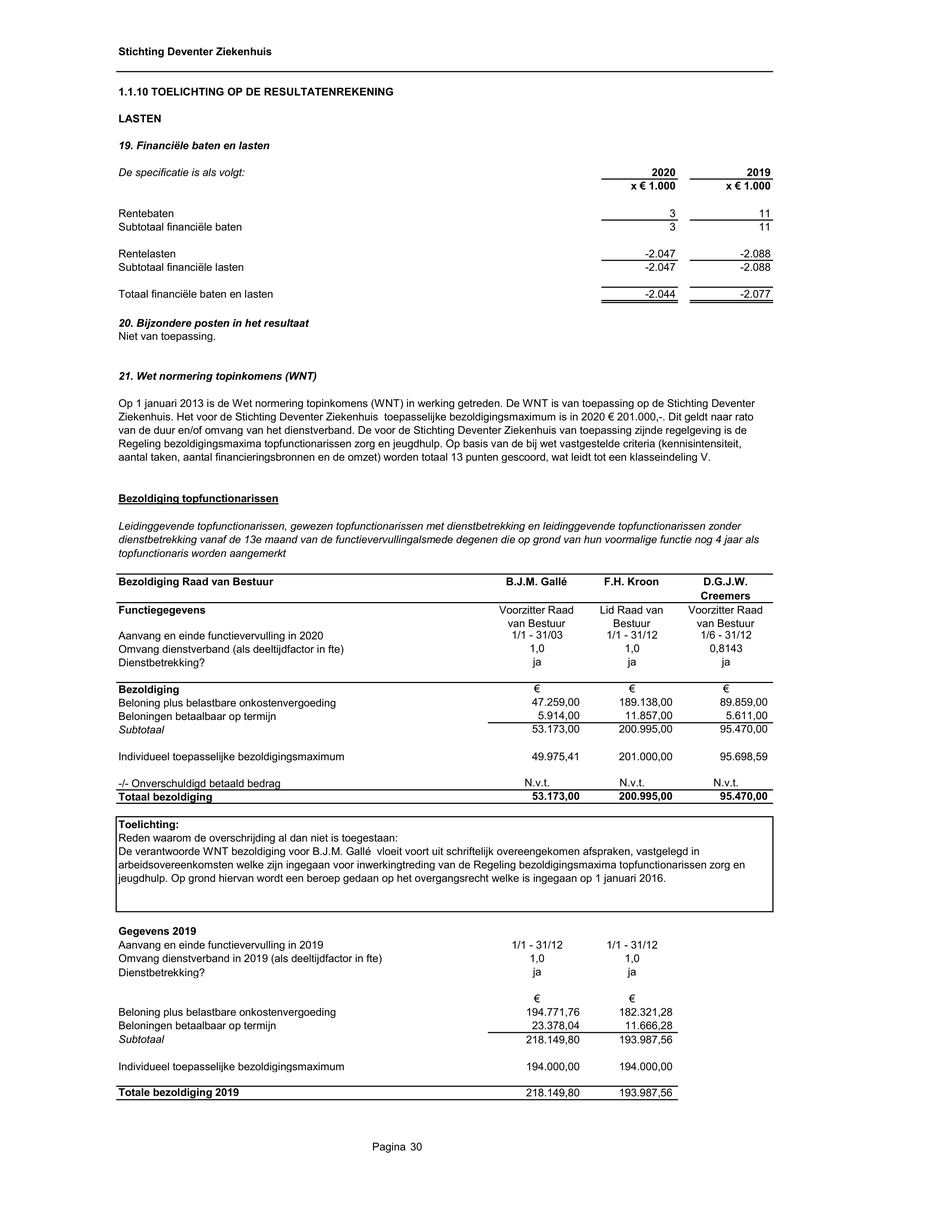coulmn: (117, 924, 388, 1104), (114, 575, 328, 802), (494, 571, 596, 803), (688, 571, 777, 809), (602, 571, 685, 806), (493, 934, 600, 1103), (607, 938, 683, 1102)
